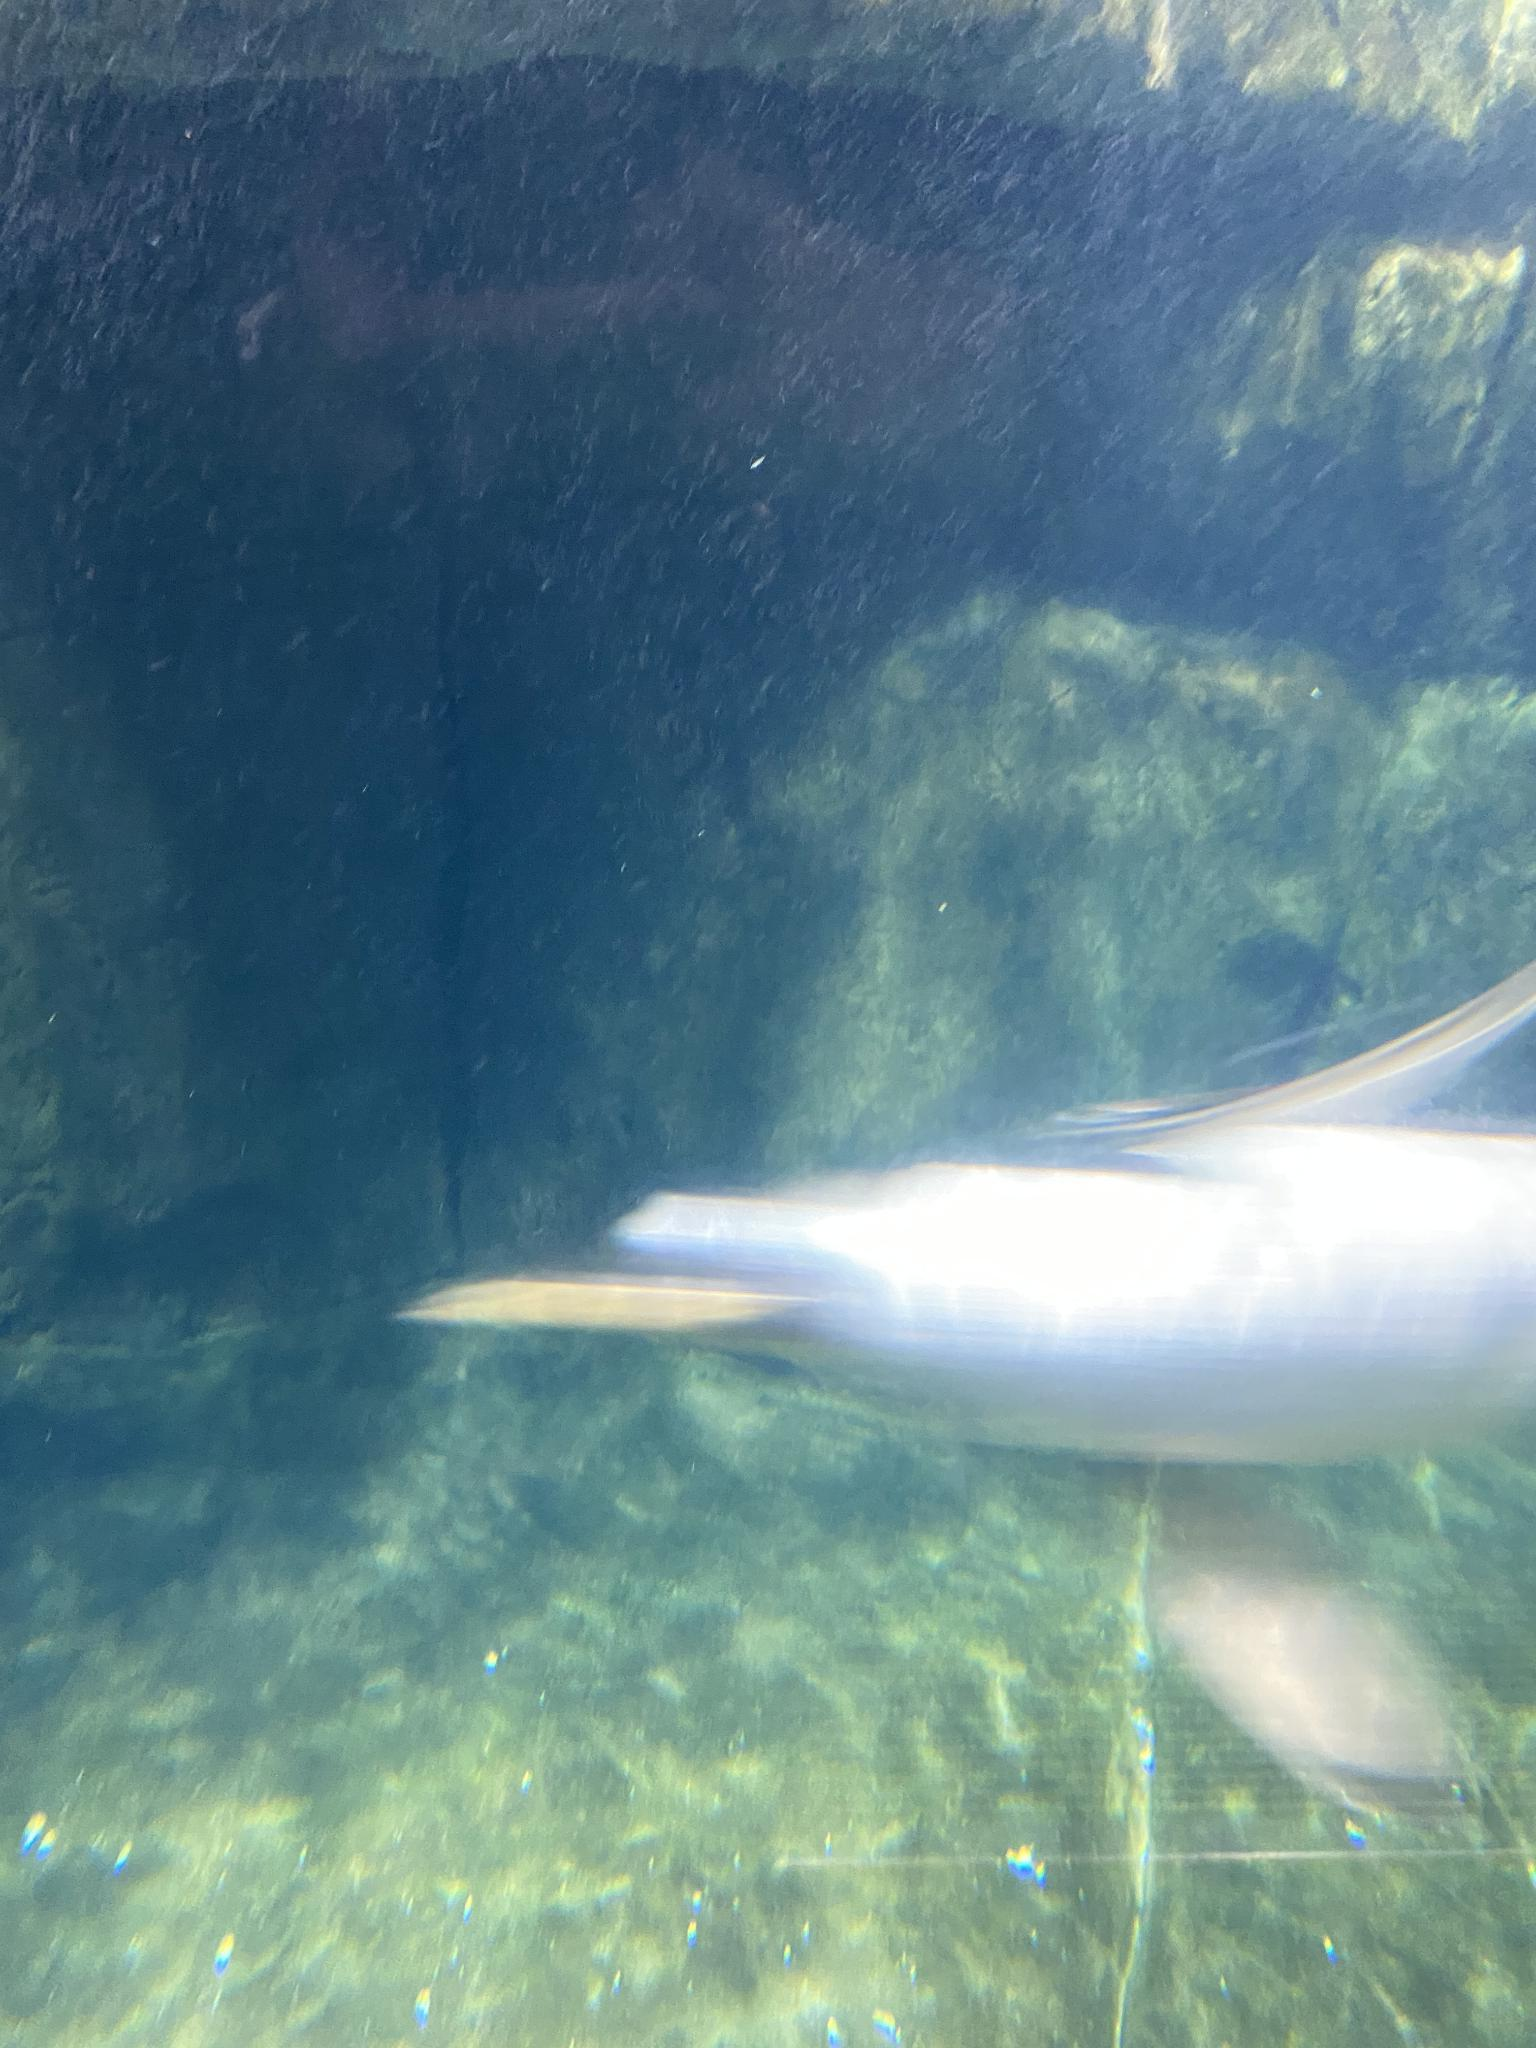penguin: (387, 959, 1534, 1822)
